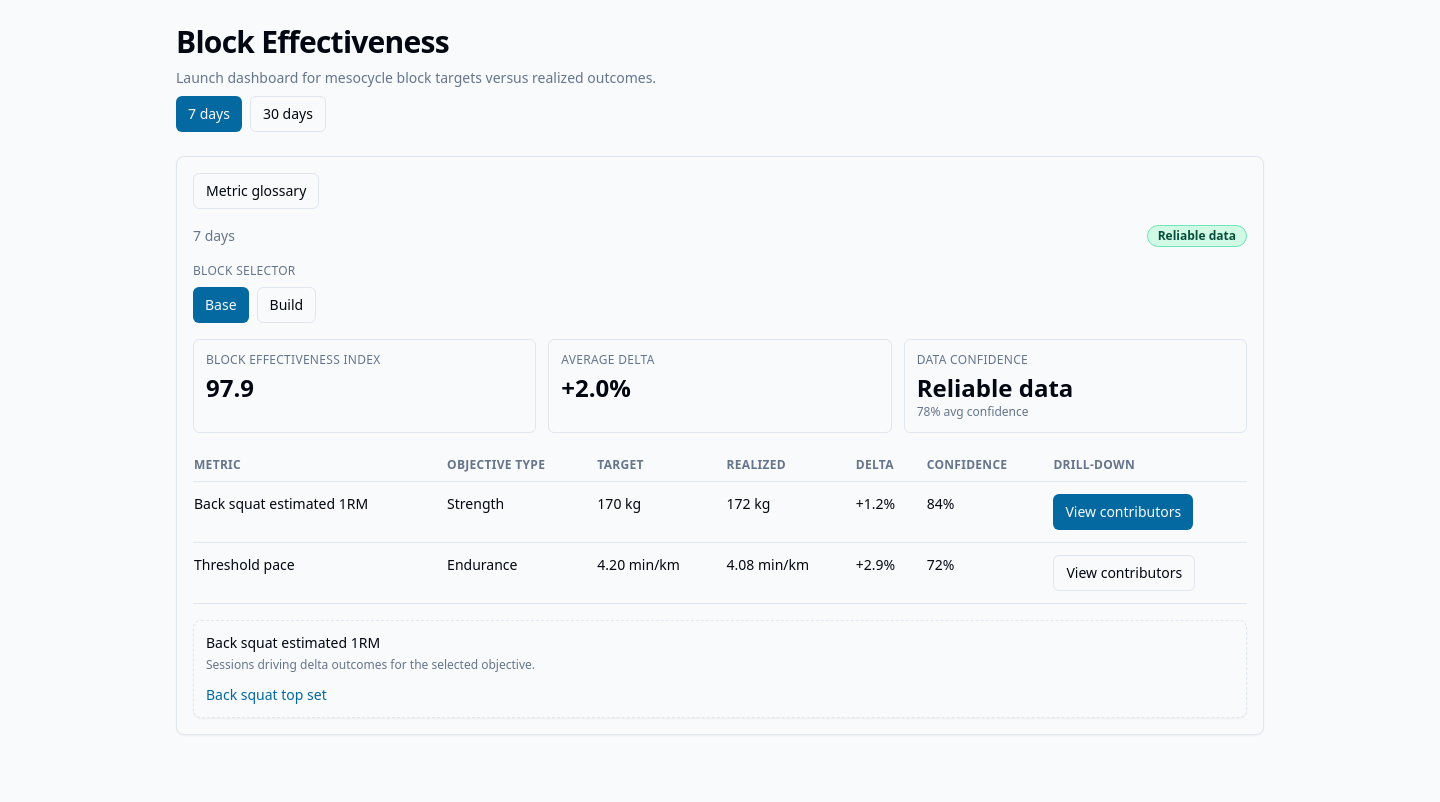
it: BlockEffectivenessDashboard › provides contextual metric glossary access
The width and height of the screenshot is (1440, 802).
Step 1. Click the button "Metric glossary" → [256, 191], box 193,173 -> 319,209
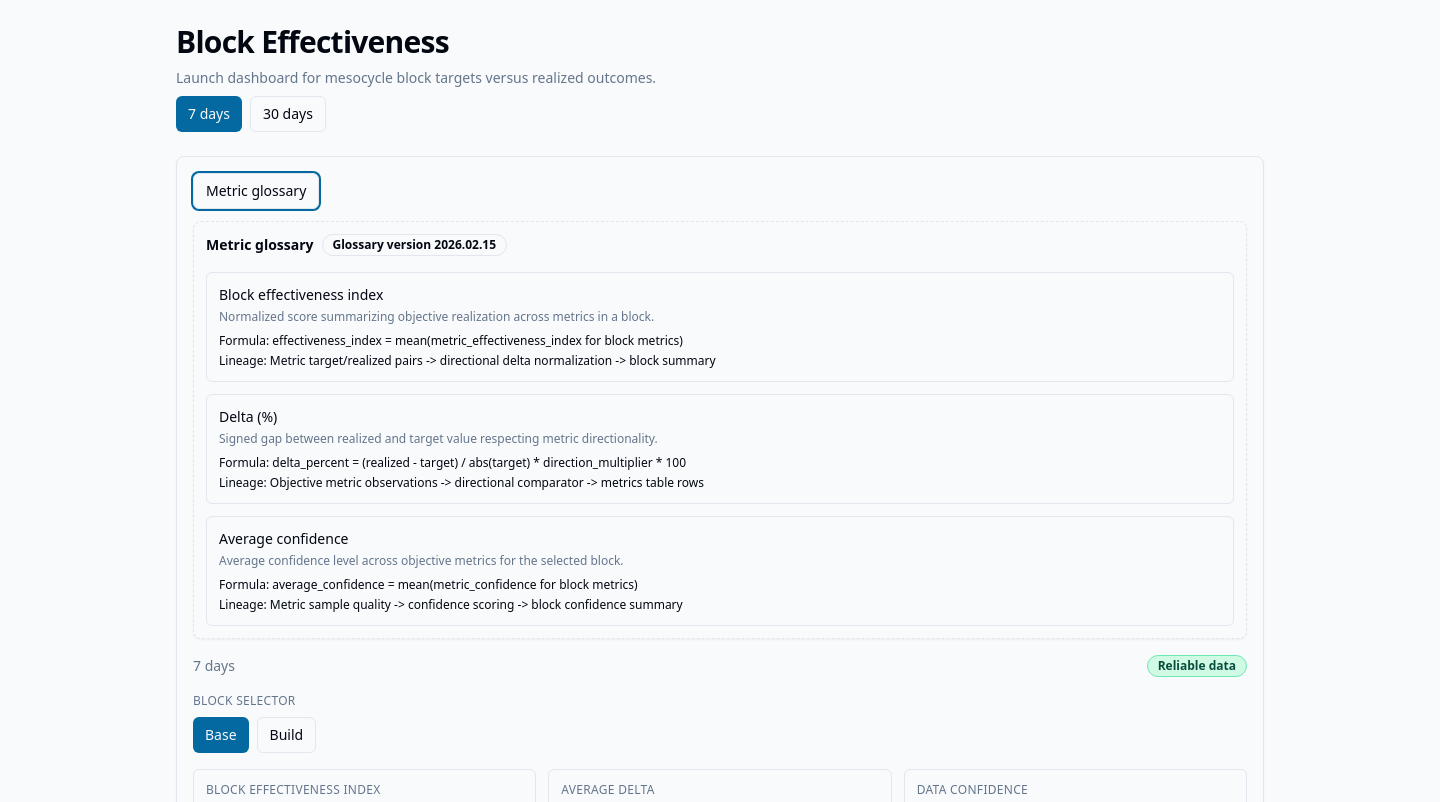
Now the text "Glossary version 2026.02.15" is shown, box 322,234 -> 507,256
Now the text "Block effectiveness index" below "Glossary version" is shown, box 219,285 -> 383,304
Now the text "Delta (%)" is shown, box 219,407 -> 277,426
